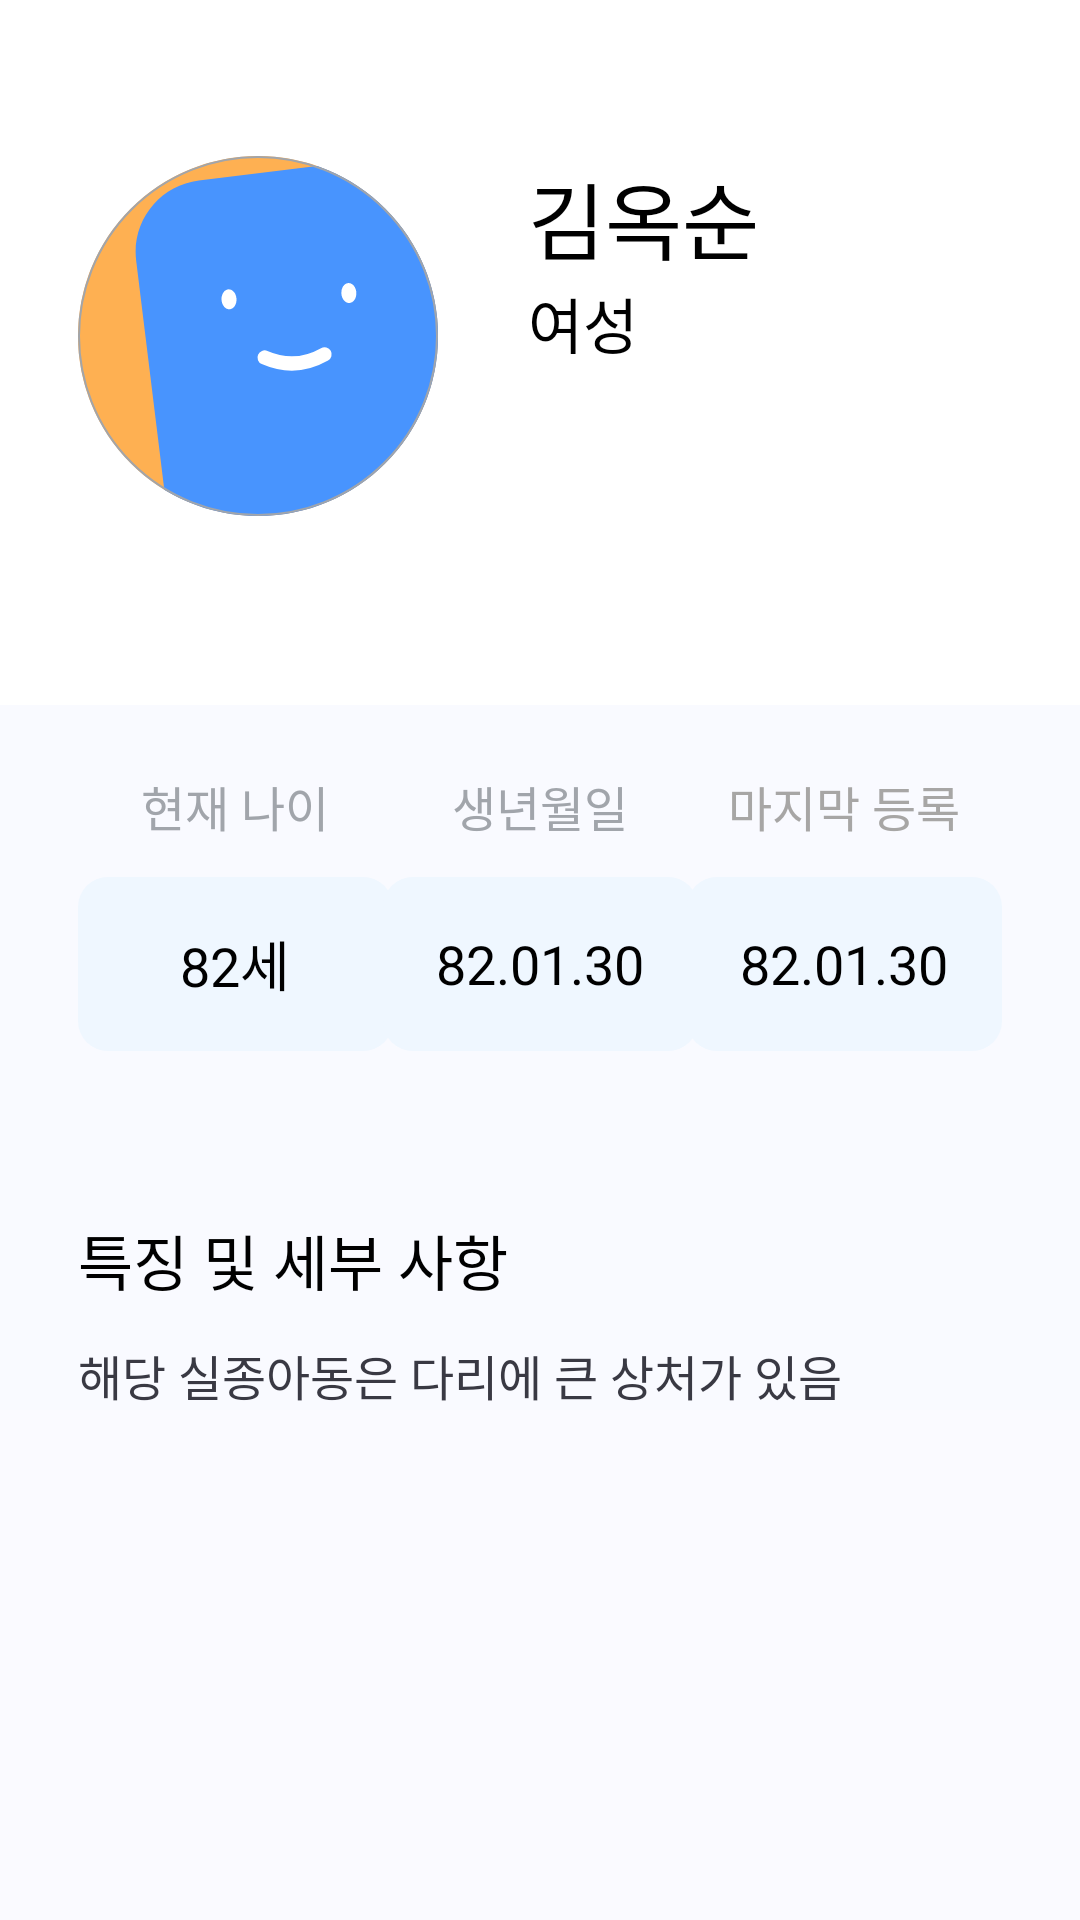

Screen size 1080w x 1920h. Icon name, then its box in pixels as (x1, y1, x2, y2):
profile: (78, 156, 438, 516)
